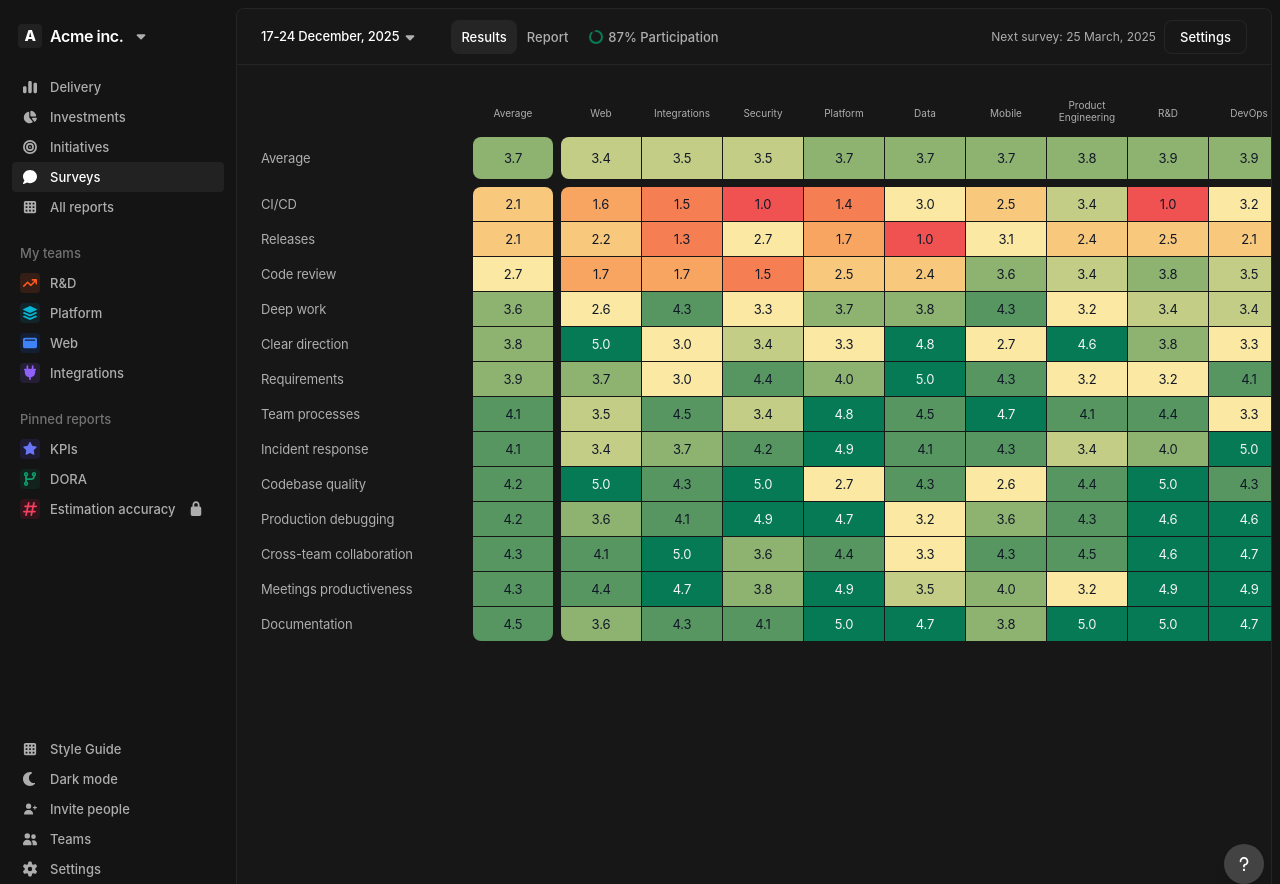
it: surveys results page › switches to the report tab and renders the survey report view
Click the button "Report".
click(548, 36)  # box [517,20,578,54]
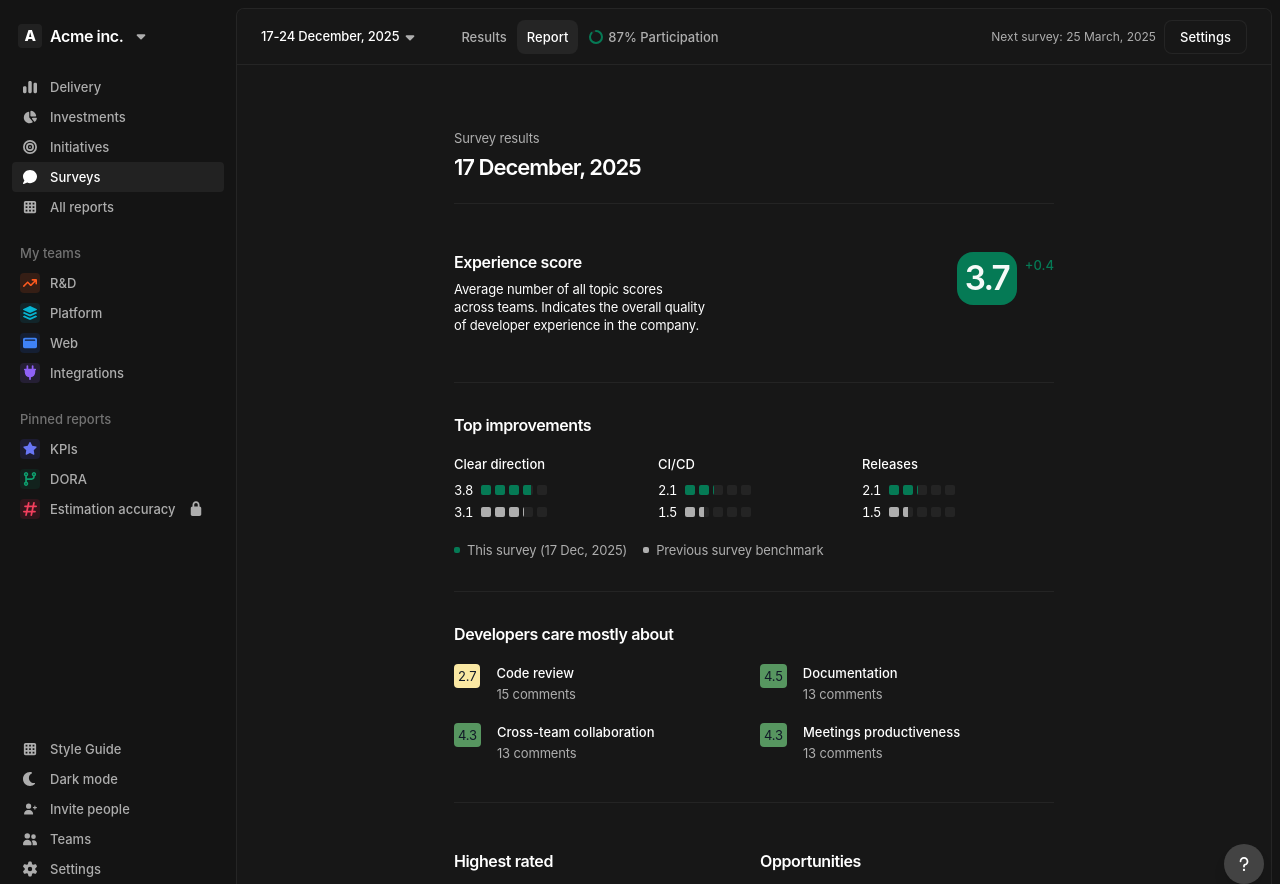
Expected: the heading "17 December, 2025" is shown, [454,154,641,180]
Expected: the heading "Experience score" is shown, [454,252,582,272]
Expected: the heading "Top improvements" is shown, [454,415,591,435]
